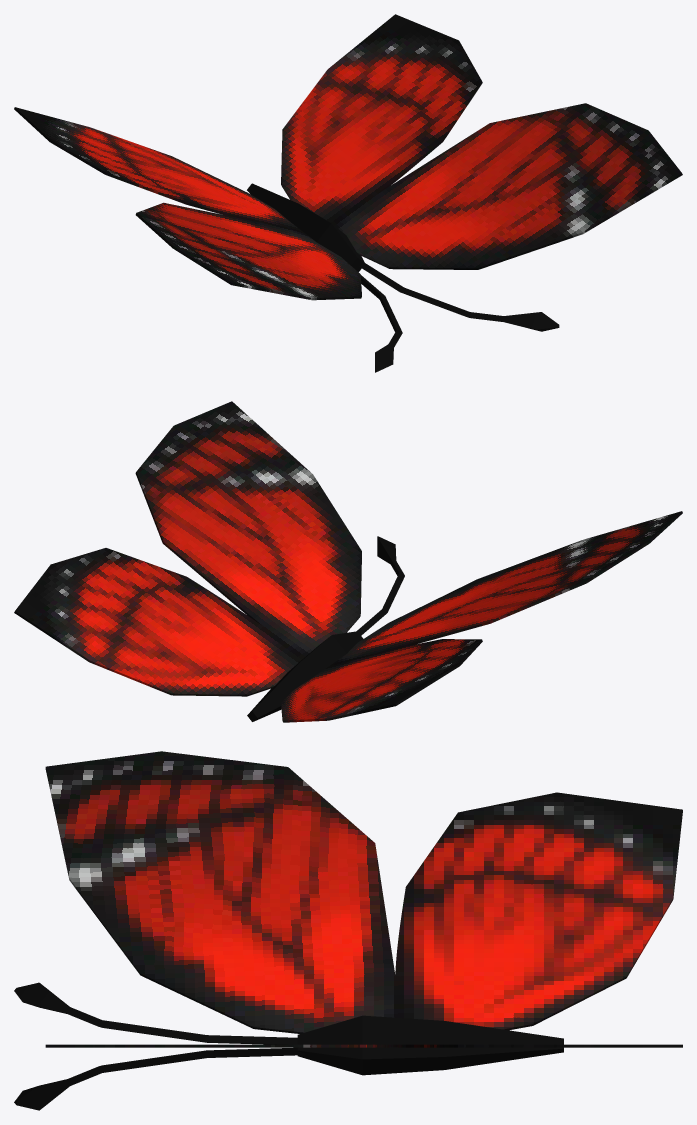
The model's file is Personage_Butterfly_red.FBX.
The picture shows the model from 3 angles, top to bottom: view 1: azimuth 30°, elevation 25°; view 2: azimuth 150°, elevation 25°; view 3: azimuth 270°, elevation 25°; orthographic projection. The views are drawn at different scales.
Visible parts, largest first — view 1: Body; view 2: Body; view 3: Body.
Part boxes in pixels (<box>): Body: <box>14,14,682,372</box>; Body: <box>14,401,682,722</box>; Body: <box>14,751,682,1110</box>.
Bounding box in the file's own units: 37.94 × 10.67 × 36.45.
